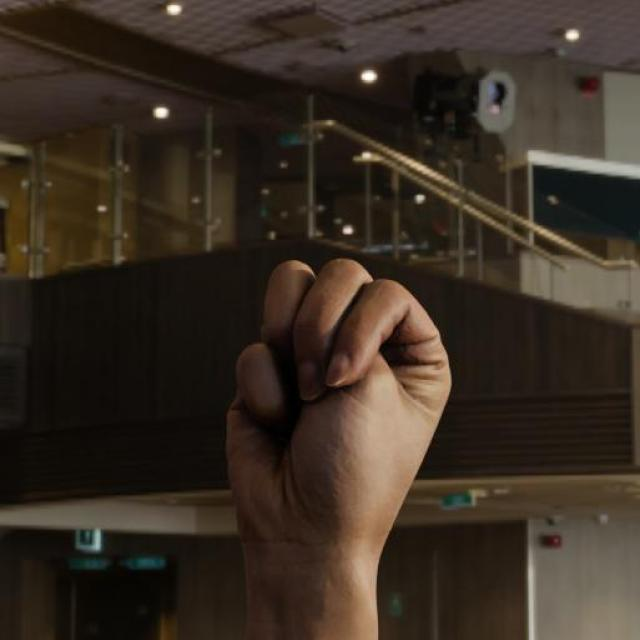M: (222, 253, 454, 552)
